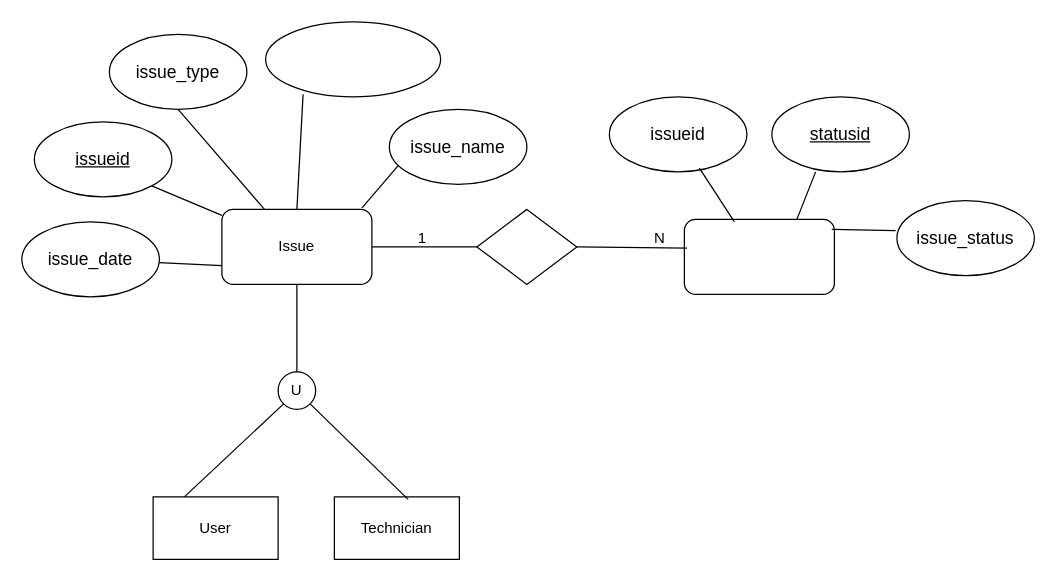
This 1056x581 diagram has some shape labels left out. The centre of each missing label's shape, as x and y in pixels:
has: (526,246)
Issue Status: (758,256)
issue_description: (352,59)
